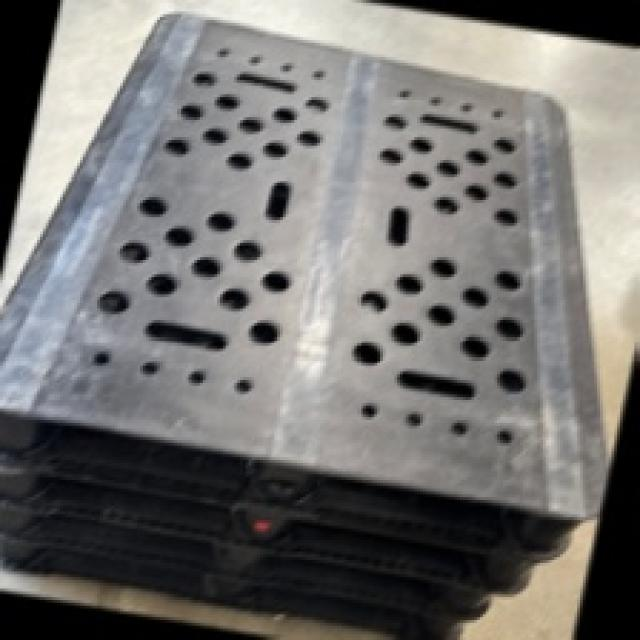igps: (0, 7, 615, 576), (0, 434, 542, 601), (0, 480, 497, 626), (0, 523, 474, 640)
